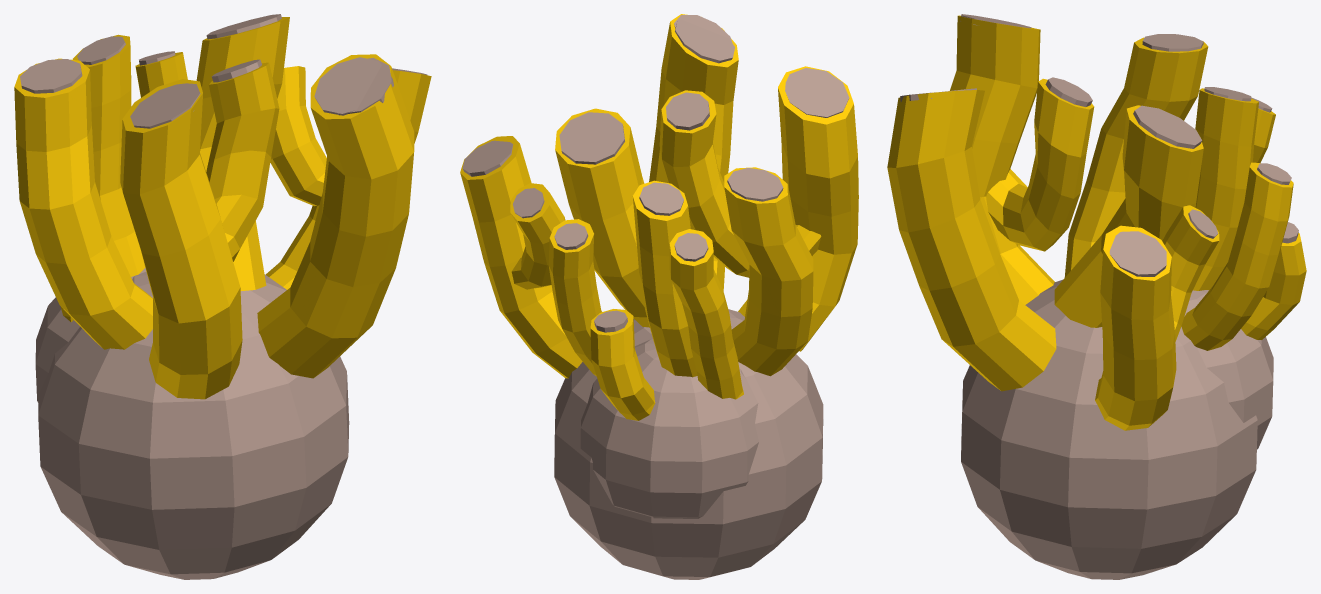
File: coral.glb
The picture shows the model from 3 angles, left to right: view 1: azimuth 30°, elevation 25°; view 2: azimuth 150°, elevation 25°; view 3: azimuth 270°, elevation 25°; orthographic projection. The views are drawn at different scales.
Visible parts, largest first — view 1: group1965416314; view 2: group1965416314; view 3: group1965416314.
Part boxes in pixels (x1,y1,x2,y2): group1965416314: (14,14,431,579); group1965416314: (460,14,858,579); group1965416314: (887,14,1306,579).
Size of the model in its own units: 0.3561 by 0.4642 by 0.3374.
